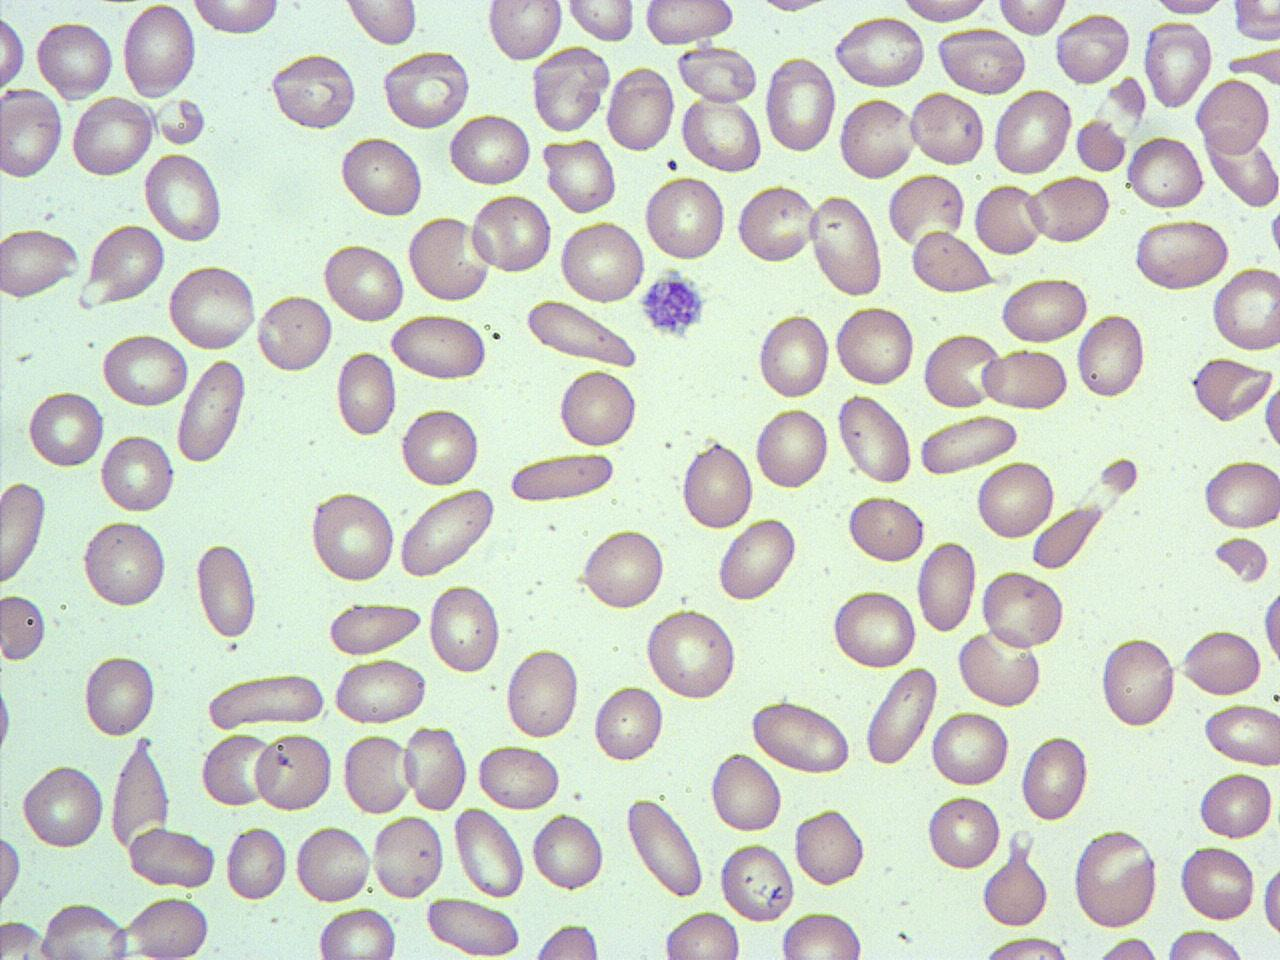Platelets: (640, 272, 706, 337), (658, 266, 690, 287)
RBC: (396, 486, 499, 580), (642, 606, 740, 702), (1071, 826, 1161, 930), (79, 516, 172, 612), (164, 260, 258, 355), (624, 794, 706, 899), (308, 488, 398, 584), (863, 662, 939, 768), (78, 221, 167, 312), (558, 216, 648, 307), (19, 760, 106, 854), (525, 298, 643, 367), (750, 698, 852, 775), (406, 212, 492, 304), (990, 85, 1073, 178), (143, 148, 225, 244), (810, 193, 884, 298), (1100, 633, 1178, 732), (831, 12, 928, 92), (831, 584, 919, 672), (109, 736, 174, 853), (1132, 216, 1232, 292), (176, 357, 247, 465), (978, 567, 1067, 651), (468, 191, 554, 277), (338, 135, 426, 220), (452, 802, 528, 899), (836, 390, 914, 485), (580, 526, 666, 612), (715, 516, 799, 604), (642, 173, 726, 262), (120, 3, 197, 100), (754, 309, 833, 402), (68, 95, 154, 179), (386, 312, 490, 382), (752, 402, 833, 493), (99, 331, 190, 410), (207, 672, 327, 732), (252, 728, 335, 816), (504, 645, 580, 741), (680, 437, 756, 532), (427, 580, 503, 676), (269, 51, 359, 132), (975, 456, 1057, 543), (764, 55, 836, 154), (331, 656, 430, 727), (321, 240, 404, 324), (734, 182, 816, 266), (833, 304, 915, 388), (400, 404, 482, 490), (955, 626, 1042, 707), (447, 109, 534, 190), (381, 50, 468, 130), (718, 838, 796, 926), (529, 808, 607, 896), (370, 812, 446, 902), (34, 18, 116, 102), (838, 96, 917, 182), (98, 430, 176, 516), (530, 45, 608, 133), (81, 652, 158, 740), (998, 273, 1090, 347), (680, 92, 762, 174), (920, 330, 1004, 410), (708, 748, 784, 836), (1075, 308, 1147, 401), (556, 368, 638, 450), (929, 708, 1011, 789), (293, 822, 372, 906), (926, 790, 1004, 874), (591, 680, 666, 766), (25, 388, 106, 469), (886, 169, 968, 249), (194, 543, 260, 639), (1179, 841, 1257, 924), (1141, 20, 1211, 111), (792, 805, 868, 889), (341, 730, 414, 817), (605, 64, 676, 152), (977, 346, 1070, 413), (1210, 263, 1280, 354), (1026, 172, 1112, 246), (914, 537, 978, 636), (541, 135, 620, 215), (1194, 78, 1272, 158), (1126, 133, 1206, 211), (1019, 732, 1089, 822), (1200, 455, 1280, 532), (256, 293, 334, 373), (909, 88, 986, 168), (916, 413, 1018, 474), (424, 896, 524, 958), (0, 86, 65, 181), (846, 491, 926, 567), (936, 27, 1025, 96), (476, 742, 562, 812), (0, 227, 82, 301), (128, 824, 218, 890), (980, 848, 1052, 930), (509, 452, 618, 506), (1054, 10, 1132, 86), (1181, 626, 1263, 698), (402, 724, 469, 812), (201, 732, 276, 809), (972, 181, 1045, 259), (1191, 354, 1273, 425), (1197, 768, 1275, 842), (38, 899, 132, 960), (1200, 700, 1280, 770), (910, 229, 994, 295), (126, 894, 211, 960), (335, 349, 397, 438), (325, 602, 424, 657), (224, 822, 290, 904), (0, 478, 49, 586), (484, 0, 564, 64), (676, 44, 760, 105), (314, 904, 400, 960), (640, 0, 737, 47), (778, 908, 866, 959), (660, 908, 744, 960), (340, 0, 420, 50), (187, 0, 284, 37), (1, 589, 49, 664), (563, 0, 637, 46), (1160, 926, 1250, 960), (0, 917, 72, 959), (527, 922, 604, 960), (994, 0, 1072, 37), (974, 934, 1084, 960), (1214, 534, 1272, 584), (895, 0, 996, 25), (1229, 0, 1280, 44), (0, 8, 27, 92), (0, 822, 23, 915), (1085, 934, 1167, 960), (1260, 852, 1280, 950), (1260, 582, 1280, 670), (1262, 368, 1280, 461)
